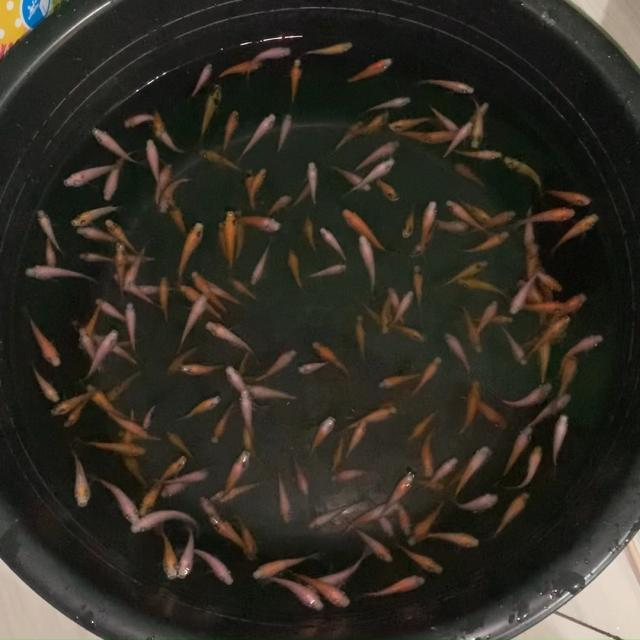nila: (88, 471, 141, 526), (313, 548, 372, 592), (524, 310, 572, 362), (289, 572, 354, 610), (24, 308, 62, 370), (204, 318, 260, 360), (455, 442, 494, 500), (340, 204, 386, 253), (91, 126, 144, 168), (346, 498, 401, 538), (558, 333, 608, 376), (261, 575, 322, 610), (100, 146, 138, 202), (234, 112, 278, 160), (552, 212, 600, 254), (250, 550, 315, 581), (491, 491, 532, 540), (443, 200, 495, 238), (130, 507, 200, 535), (459, 392, 509, 431), (305, 498, 362, 532), (351, 520, 393, 566), (507, 444, 547, 492), (340, 403, 404, 433), (500, 154, 549, 193), (345, 155, 395, 193), (81, 329, 118, 380), (358, 574, 430, 600), (176, 292, 208, 350), (526, 390, 574, 428), (444, 453, 492, 491), (222, 364, 260, 411), (211, 516, 253, 558), (500, 424, 532, 479), (208, 474, 266, 504), (380, 468, 416, 516), (61, 162, 127, 188), (192, 267, 230, 312), (190, 550, 237, 586), (406, 502, 444, 546), (80, 382, 126, 418), (176, 221, 203, 282), (102, 366, 145, 404), (510, 206, 578, 230), (394, 542, 445, 574), (466, 204, 520, 234), (178, 282, 224, 317), (245, 42, 292, 76), (312, 339, 354, 377), (199, 81, 222, 150), (438, 258, 489, 289), (110, 269, 150, 308), (67, 448, 93, 507), (106, 216, 144, 256), (355, 137, 401, 170), (555, 353, 581, 411), (456, 378, 482, 436), (254, 348, 300, 380), (497, 382, 555, 407), (198, 146, 246, 176), (346, 54, 394, 84), (62, 386, 98, 426), (512, 266, 539, 319), (49, 388, 96, 418), (442, 119, 478, 158), (171, 396, 221, 424), (94, 333, 139, 364), (236, 382, 299, 404), (78, 326, 105, 377), (221, 448, 248, 499), (120, 444, 148, 492), (550, 411, 572, 472), (81, 438, 148, 458), (174, 524, 197, 582), (461, 228, 512, 254), (446, 331, 476, 375), (306, 413, 336, 457), (406, 220, 437, 262), (414, 355, 445, 397), (358, 233, 378, 298), (461, 306, 486, 358), (454, 192, 492, 226), (157, 175, 190, 213), (74, 300, 100, 348), (416, 530, 485, 548), (330, 163, 370, 194), (29, 364, 60, 404), (38, 210, 66, 254), (186, 60, 216, 101), (548, 287, 590, 316), (501, 324, 530, 366), (250, 236, 274, 286), (68, 203, 116, 228), (470, 298, 500, 338), (23, 265, 93, 282), (416, 76, 478, 95), (157, 529, 180, 580), (234, 214, 287, 236), (376, 368, 429, 390), (424, 456, 460, 488), (452, 162, 490, 192), (320, 226, 350, 264), (518, 327, 572, 348), (163, 344, 198, 376), (357, 298, 392, 330), (92, 295, 130, 323), (448, 492, 501, 512), (274, 474, 294, 527), (165, 428, 198, 460), (420, 128, 478, 146), (390, 288, 416, 328), (212, 399, 234, 446), (238, 516, 260, 562), (327, 426, 348, 474), (418, 214, 471, 233), (222, 108, 242, 158), (145, 138, 165, 188), (370, 499, 395, 539), (156, 454, 187, 486), (208, 278, 243, 306), (162, 466, 211, 486), (515, 300, 564, 320), (512, 278, 547, 306), (138, 478, 165, 514), (353, 310, 370, 367), (124, 246, 146, 290), (429, 104, 461, 134), (286, 246, 306, 294), (422, 198, 438, 258), (410, 410, 440, 442), (371, 172, 400, 205), (214, 60, 264, 79), (522, 204, 540, 256), (534, 334, 552, 386), (274, 112, 296, 154), (166, 194, 188, 236), (178, 360, 229, 378), (456, 280, 510, 297), (421, 424, 438, 478), (332, 120, 360, 152), (350, 110, 390, 132), (106, 412, 146, 434), (549, 188, 596, 206), (309, 261, 349, 282), (393, 320, 428, 344), (346, 419, 366, 461), (305, 40, 357, 56), (224, 210, 237, 274), (327, 468, 379, 484), (365, 94, 411, 112), (152, 162, 170, 208), (118, 404, 136, 450), (287, 58, 303, 109), (526, 238, 544, 283), (122, 302, 138, 352), (73, 227, 120, 244), (532, 268, 565, 292), (416, 478, 454, 498), (290, 456, 310, 494), (241, 389, 256, 439), (295, 357, 332, 377), (388, 116, 434, 132), (160, 478, 192, 501), (158, 128, 186, 154), (392, 128, 437, 144), (387, 286, 407, 322), (247, 167, 266, 204), (234, 208, 247, 262), (114, 240, 126, 298), (233, 347, 254, 380), (412, 264, 427, 310), (240, 423, 258, 461), (227, 276, 258, 298), (198, 492, 220, 523), (448, 148, 504, 160), (303, 217, 321, 254), (130, 426, 164, 445), (243, 167, 258, 210), (469, 99, 482, 148), (267, 191, 294, 214), (472, 311, 516, 325), (381, 289, 394, 336), (288, 186, 312, 210), (128, 283, 176, 295), (307, 160, 318, 207), (402, 203, 415, 242), (119, 252, 155, 266), (100, 337, 142, 349), (150, 102, 164, 137), (160, 273, 170, 322), (470, 100, 490, 124), (78, 252, 114, 265), (217, 220, 229, 258), (122, 114, 154, 128), (44, 233, 56, 267), (146, 404, 162, 426), (400, 500, 410, 534)
